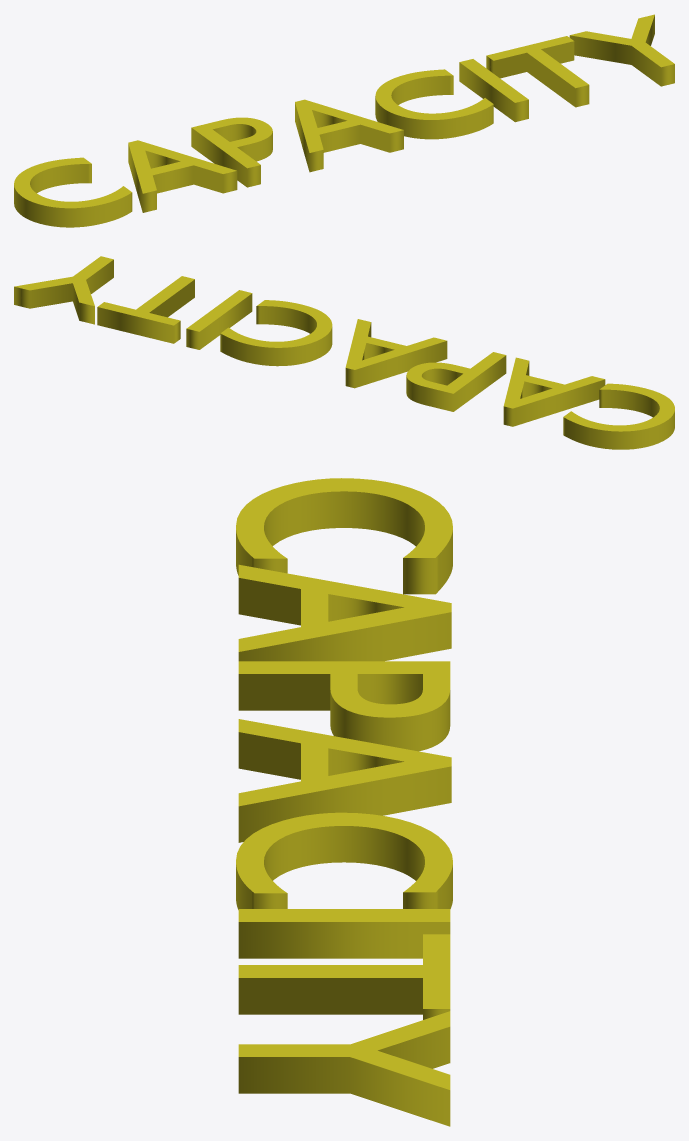
File: CapacityText.fbx
3 renders of one model, top to bottom at view 1: azimuth 30°, elevation 25°; view 2: azimuth 150°, elevation 25°; view 3: azimuth 270°, elevation 25°, orthographic. The views are drawn at different scales.
Parts seen in each view (by area): view 1: Text; view 2: Text; view 3: Text.
Part boxes in pixels (left/top/right/bottom): Text: left=14, top=14, right=674, bottom=227; Text: left=14, top=256, right=674, bottom=449; Text: left=236, top=478, right=452, bottom=1126.
Bounding box in the file's own units: 467 × 13 × 70.
